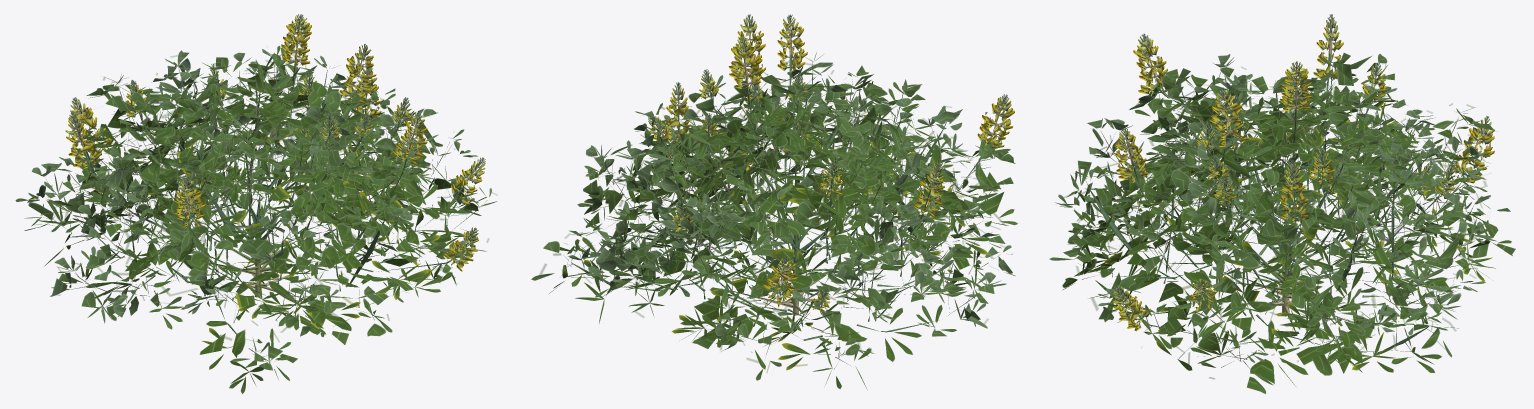
File: massif_lupin.glb
3 views of the same model, side by side, from view 1: azimuth 30°, elevation 25°; view 2: azimuth 150°, elevation 25°; view 3: azimuth 270°, elevation 25° (orthographic). The views are drawn at different scales.
Visible parts, largest first — view 1: Lupinus_arboreus_HD_Lupinus arb leaflet 4_0, Lupinus_arboreus_HD_Lupinus arb leaflet 3_0, Lupinus_arboreus_HD_Lupinus arb leaflet 5_0, Lupinus_arboreus_HD_Lupinus arb leaflet 2_0, Lupinus_arboreus_HD_Lupinus arb leaflet 1_0, Lupinus_arboreus_HD_Lupinus arbo branch_0, Lupinus_arboreus_HD_Lupinus leaflet 01 y1_0, Lupinus_arboreus_HD_Lupin arb P D dark 1a_0, Lupinus_arboreus_HD_Lupin arb lf stk 1_0, Lupinus_arboreus_HD_Lupin arb P U 1a_0, Lupinus_arboreus_HD_Lupin arb P D 1a_0, Lupinus_arboreus_HD_Lupin arb P D clear 1a_0 (+3 smaller); view 2: Lupinus_arboreus_HD_Lupinus arb leaflet 4_0, Lupinus_arboreus_HD_Lupinus arb leaflet 5_0, Lupinus_arboreus_HD_Lupinus arb leaflet 3_0, Lupinus_arboreus_HD_Lupinus arb leaflet 1_0, Lupinus_arboreus_HD_Lupinus arb leaflet 2_0, Lupinus_arboreus_HD_Lupinus arbo branch_0, Lupinus_arboreus_HD_Lupinus leaflet 01 y1_0, Lupinus_arboreus_HD_Lupin arb P D dark 1a_0, Lupinus_arboreus_HD_Lupin arb lf stk 1_0, Lupinus_arboreus_HD_Lupin arb P U 1a_0, Lupinus_arboreus_HD_Lupin arb P D 1a_0, Lupinus_arboreus_HD_Lupin arb P D clear 1a_0 (+4 smaller); view 3: Lupinus_arboreus_HD_Lupinus arb leaflet 4_0, Lupinus_arboreus_HD_Lupinus arb leaflet 3_0, Lupinus_arboreus_HD_Lupinus arb leaflet 1_0, Lupinus_arboreus_HD_Lupinus arb leaflet 5_0, Lupinus_arboreus_HD_Lupinus arb leaflet 2_0, Lupinus_arboreus_HD_Lupinus arbo branch_0, Lupinus_arboreus_HD_Lupin arb P D dark 1a_0, Lupinus_arboreus_HD_Lupinus leaflet 01 y1_0, Lupinus_arboreus_HD_Lupin arb P U 1a_0, Lupinus_arboreus_HD_Lupin arb lf stk 1_0, Lupinus_arboreus_HD_Lupin arb P D 1a_0, Lupinus_arboreus_HD_Lupin arb P U 1b_0 (+3 smaller).
Boxes of the visible parts, <box> form: Lupinus_arboreus_HD_Lupinus arb leaflet 4_0: <box>15,45,489,370</box>; Lupinus_arboreus_HD_Lupinus arb leaflet 3_0: <box>24,61,463,393</box>; Lupinus_arboreus_HD_Lupinus arb leaflet 5_0: <box>31,49,497,323</box>; Lupinus_arboreus_HD_Lupinus arb leaflet 2_0: <box>38,78,465,388</box>; Lupinus_arboreus_HD_Lupinus arb leaflet 1_0: <box>44,91,452,379</box>; Lupinus_arboreus_HD_Lupinus arbo branch_0: <box>52,19,480,354</box>; Lupinus_arboreus_HD_Lupinus leaflet 01 y1_0: <box>78,110,440,342</box>; Lupinus_arboreus_HD_Lupin arb P D dark 1a_0: <box>66,25,482,271</box>; Lupinus_arboreus_HD_Lupin arb lf stk 1_0: <box>43,64,479,362</box>; Lupinus_arboreus_HD_Lupin arb P U 1a_0: <box>68,32,475,267</box>; Lupinus_arboreus_HD_Lupin arb P D 1a_0: <box>65,18,485,247</box>; Lupinus_arboreus_HD_Lupin arb P D clear 1a_0: <box>69,14,485,237</box>; Lupinus_arboreus_HD_Lupinus arb leaflet 4_0: <box>531,61,1015,366</box>; Lupinus_arboreus_HD_Lupinus arb leaflet 5_0: <box>564,52,1015,336</box>; Lupinus_arboreus_HD_Lupinus arb leaflet 3_0: <box>559,75,1017,388</box>; Lupinus_arboreus_HD_Lupinus arb leaflet 1_0: <box>567,104,991,389</box>; Lupinus_arboreus_HD_Lupinus arb leaflet 2_0: <box>549,85,1008,386</box>; Lupinus_arboreus_HD_Lupinus arbo branch_0: <box>571,19,1005,356</box>; Lupinus_arboreus_HD_Lupinus leaflet 01 y1_0: <box>578,114,988,370</box>; Lupinus_arboreus_HD_Lupin arb P D dark 1a_0: <box>653,28,1014,313</box>; Lupinus_arboreus_HD_Lupin arb lf stk 1_0: <box>567,83,998,369</box>; Lupinus_arboreus_HD_Lupin arb P U 1a_0: <box>665,31,1010,304</box>; Lupinus_arboreus_HD_Lupin arb P D 1a_0: <box>649,22,1011,307</box>; Lupinus_arboreus_HD_Lupin arb P D clear 1a_0: <box>648,16,1011,299</box>; Lupinus_arboreus_HD_Lupinus arb leaflet 4_0: <box>1049,52,1510,385</box>; Lupinus_arboreus_HD_Lupinus arb leaflet 3_0: <box>1062,63,1515,393</box>; Lupinus_arboreus_HD_Lupinus arb leaflet 1_0: <box>1086,98,1495,386</box>; Lupinus_arboreus_HD_Lupinus arb leaflet 5_0: <box>1058,54,1497,361</box>; Lupinus_arboreus_HD_Lupinus arb leaflet 2_0: <box>1082,86,1511,372</box>; Lupinus_arboreus_HD_Lupinus arbo branch_0: <box>1083,18,1486,361</box>; Lupinus_arboreus_HD_Lupin arb P D dark 1a_0: <box>1113,40,1494,331</box>; Lupinus_arboreus_HD_Lupinus leaflet 01 y1_0: <box>1090,100,1492,370</box>; Lupinus_arboreus_HD_Lupin arb P U 1a_0: <box>1116,40,1492,327</box>; Lupinus_arboreus_HD_Lupin arb lf stk 1_0: <box>1077,73,1489,371</box>; Lupinus_arboreus_HD_Lupin arb P D 1a_0: <box>1112,24,1494,305</box>; Lupinus_arboreus_HD_Lupin arb P U 1b_0: <box>1114,40,1452,311</box>.
Bounding box in the file's own units: 1.2 × 0.7535 × 1.12.
Materials: 20 (20 with a texture image).
